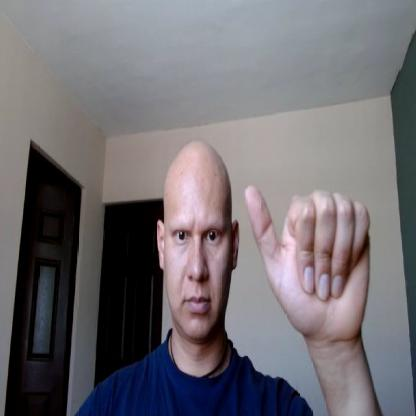A: (244, 182, 371, 344)
